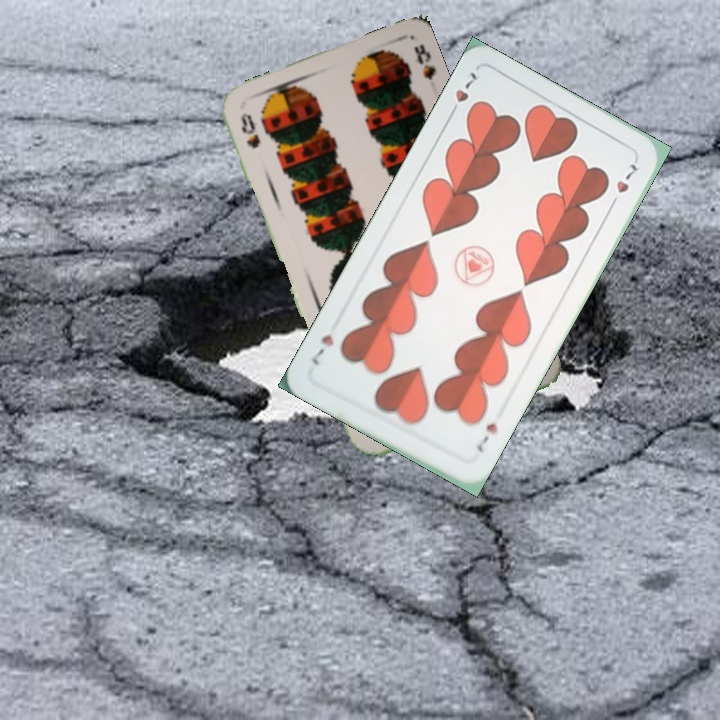H7: (444, 67, 483, 120), (472, 418, 500, 455)
S8: (237, 108, 263, 151)
